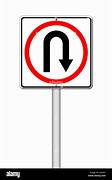back: (23, 19, 89, 85)
